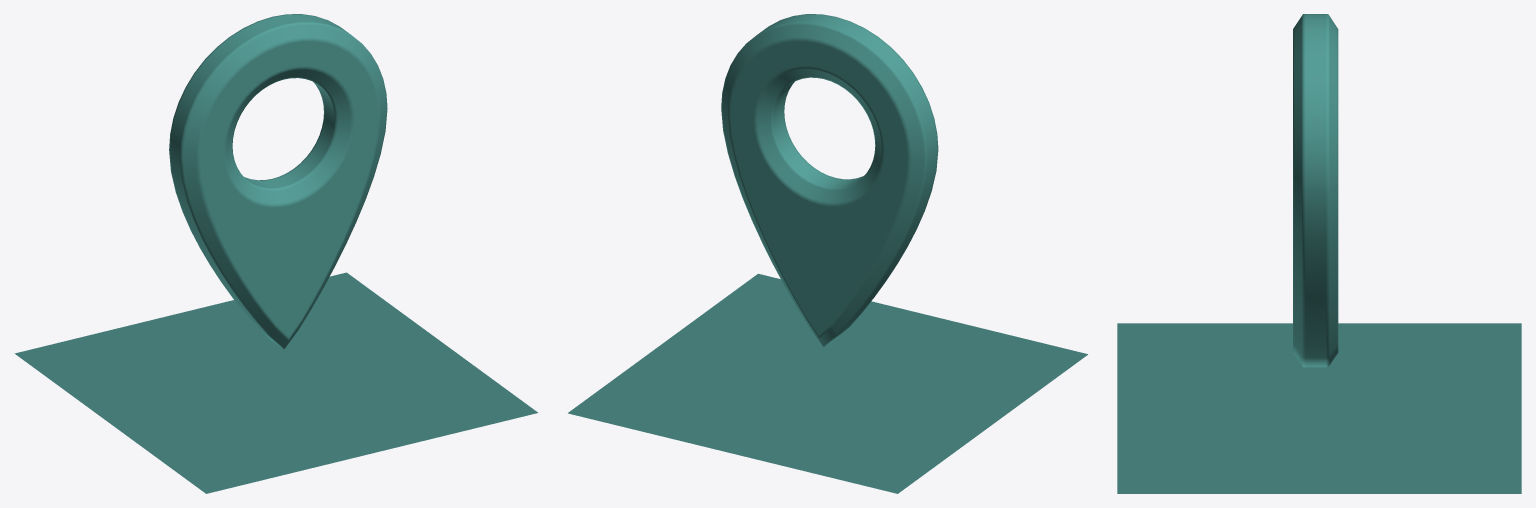
The model's file is marker.glb.
3 renders of one model, left to right at view 1: azimuth 30°, elevation 25°; view 2: azimuth 150°, elevation 25°; view 3: azimuth 270°, elevation 25°, orthographic. The views are drawn at different scales.
Visible parts, largest first — view 1: circle.004, pointer.004; view 2: circle.004, pointer.004; view 3: circle.004, pointer.004.
Boxes of the visible parts, x1=… form: circle.004: x1=14, y1=272, x2=537, y2=493; pointer.004: x1=169, y1=14, x2=387, y2=349; circle.004: x1=568, y1=273, x2=1087, y2=493; pointer.004: x1=721, y1=14, x2=938, y2=347; circle.004: x1=1117, y1=323, x2=1521, y2=493; pointer.004: x1=1293, y1=14, x2=1338, y2=367.
Size of the model in its own units: 0.5104 by 0.5334 by 0.5104.
Materials: 2 (1 with a texture image).
